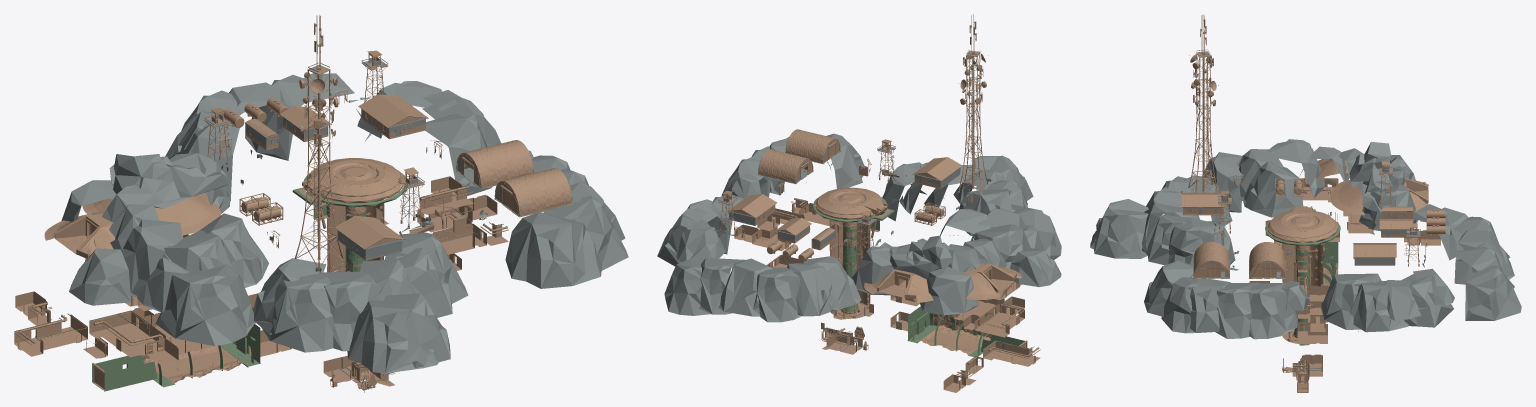
File: nuclear_missile_silo-mid.glb
The picture shows the model from 3 angles, left to right: view 1: azimuth 30°, elevation 25°; view 2: azimuth 150°, elevation 25°; view 3: azimuth 270°, elevation 25°; orthographic projection. The views are drawn at different scales.
Parts seen in each view (by area): view 1: NMS_hlod, nuclear_silo_bunker_hatch_LOD0; view 2: NMS_hlod, nuclear_silo_bunker_hatch_LOD0; view 3: NMS_hlod, nuclear_silo_bunker_hatch_LOD0.
Boxes of the visible parts, bbox=[...] form: NMS_hlod: bbox=[61, 57, 628, 378]; nuclear_silo_bunker_hatch_LOD0: bbox=[14, 14, 572, 392]; NMS_hlod: bbox=[657, 50, 1061, 351]; nuclear_silo_bunker_hatch_LOD0: bbox=[718, 14, 1040, 392]; NMS_hlod: bbox=[1090, 51, 1521, 370]; nuclear_silo_bunker_hatch_LOD0: bbox=[1181, 14, 1445, 392].
Bounding box in the file's own units: 125 × 107 × 128.
